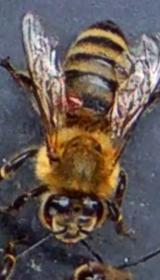varroa_mite: (46, 74, 94, 124)
